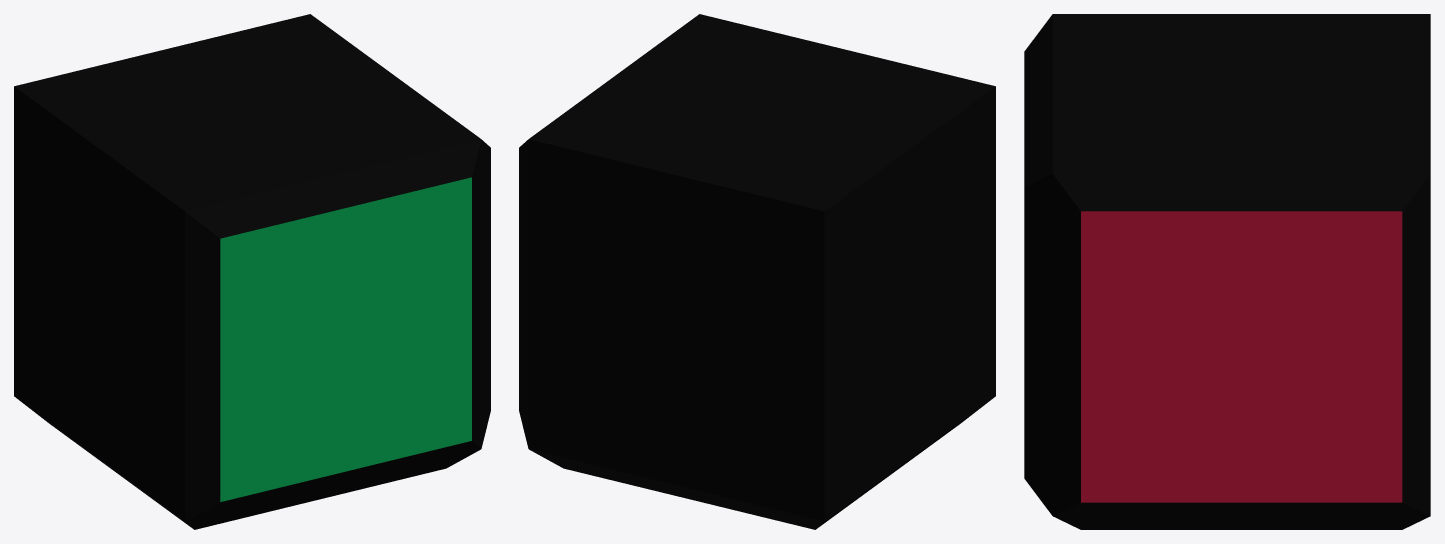
File: rubiks_cube_7.glb
3 renders of one model, left to right at view 1: azimuth 30°, elevation 25°; view 2: azimuth 150°, elevation 25°; view 3: azimuth 270°, elevation 25°, orthographic. The views are drawn at different scales.
Parts seen in each view (by area): view 1: Cube7.001; view 2: Cube7.001; view 3: Cube7.001.
Part boxes in pixels (x1,y1,x2,y2): Cube7.001: (14, 14, 490, 529); Cube7.001: (519, 14, 995, 529); Cube7.001: (1024, 14, 1430, 529).
Size of the model in its own units: 2.15 by 2.15 by 2.15.
